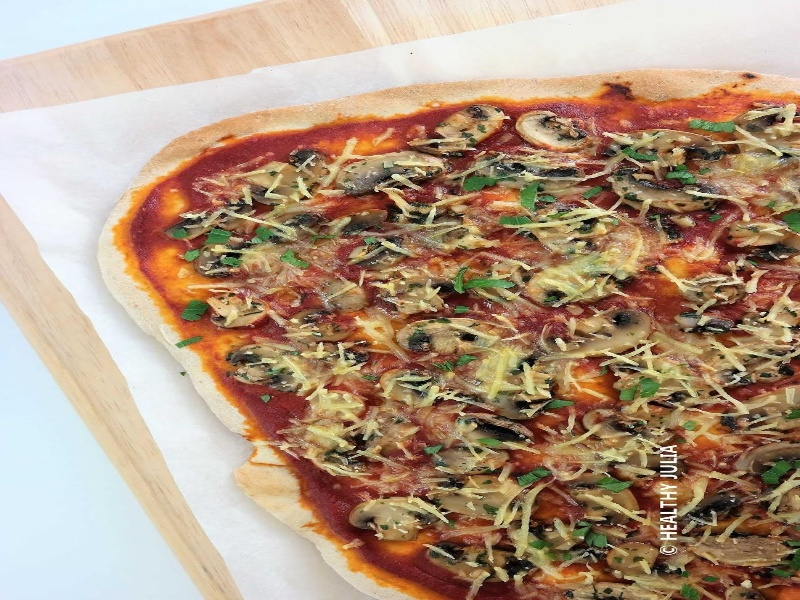champignon: (340, 494, 457, 547), (511, 104, 605, 156)
